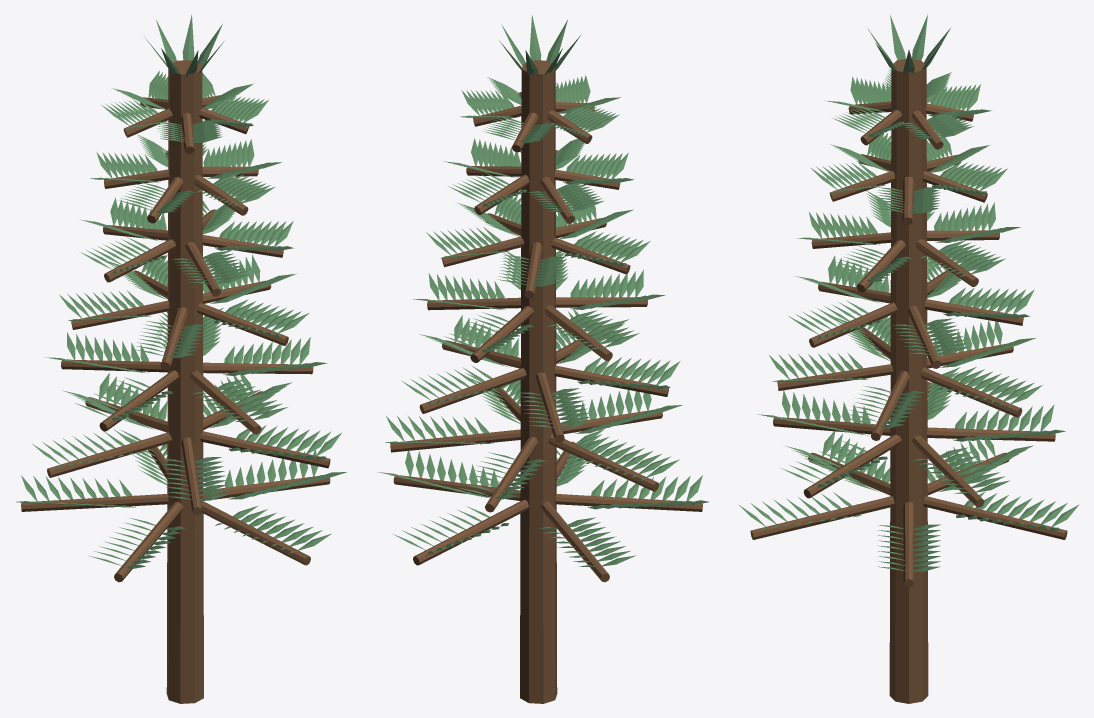
3 renders of one model, left to right at view 1: azimuth 30°, elevation 25°; view 2: azimuth 150°, elevation 25°; view 3: azimuth 270°, elevation 25°, orthographic.
Parts seen in each view (by area): view 1: WW-140 Whorled needle crowned pine tree batched; view 2: WW-140 Whorled needle crowned pine tree batched; view 3: WW-140 Whorled needle crowned pine tree batched.
Boxes of the visible parts, <box> form: WW-140 Whorled needle crowned pine tree batched: <box>16,14,346,703</box>; WW-140 Whorled needle crowned pine tree batched: <box>377,15,708,703</box>; WW-140 Whorled needle crowned pine tree batched: <box>738,14,1079,703</box>.
Size of the model in its own units: 1.27 by 2.85 by 1.33.
